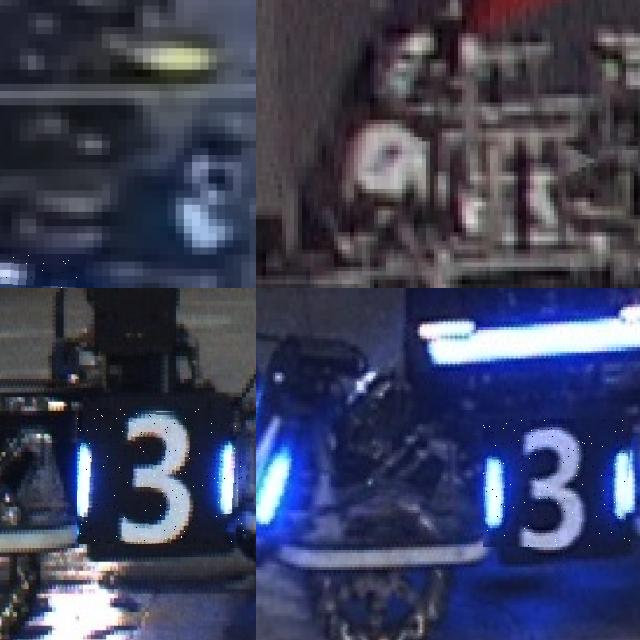B3: (77, 408, 244, 544), (483, 419, 632, 547)
B4: (256, 378, 291, 544)
